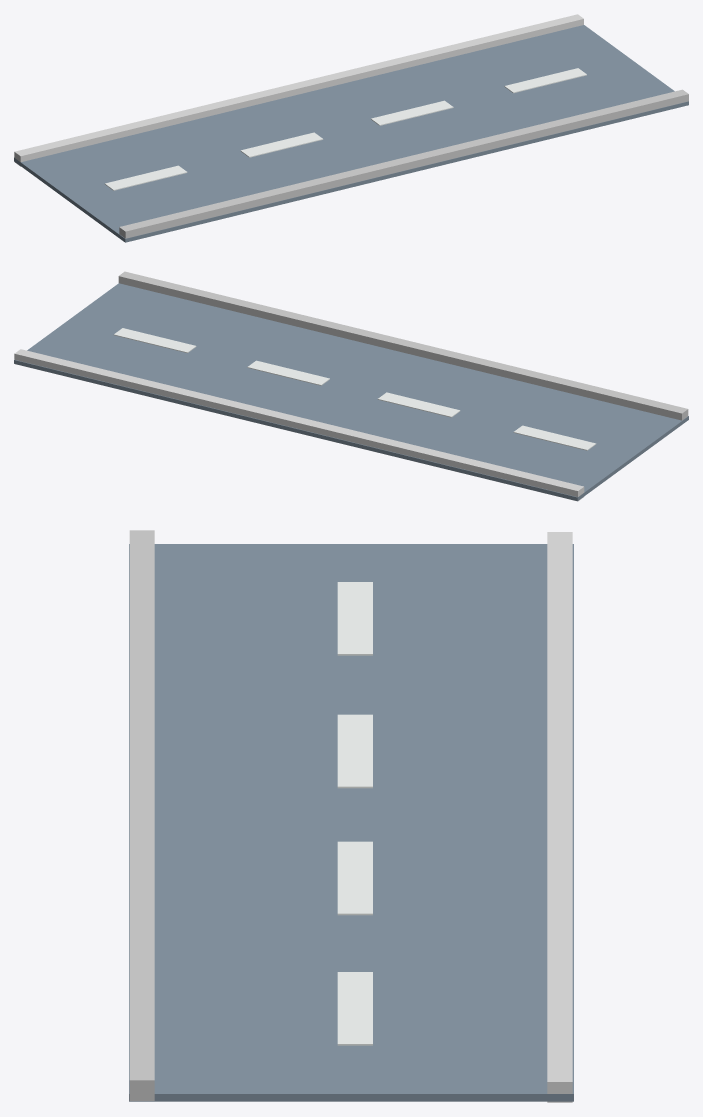
File: road.fbx
3 renders of one model, top to bottom at view 1: azimuth 30°, elevation 25°; view 2: azimuth 150°, elevation 25°; view 3: azimuth 270°, elevation 25°, orthographic. The views are drawn at different scales.
Parts seen in each view (by area): view 1: Cube, pavement 1, pavement 2, Plane; view 2: Cube, pavement 1, pavement 2, Plane; view 3: Cube, pavement 1, pavement 2, Plane.
Boxes of the visible parts, box(x1,y1,x2,y2) form: Cube: box(14, 25, 688, 242); pavement 1: box(119, 89, 688, 238); pavement 2: box(14, 14, 583, 166); Plane: box(105, 68, 586, 190); Cube: box(14, 283, 688, 501); pavement 1: box(118, 271, 688, 420); pavement 2: box(14, 349, 584, 501); Plane: box(113, 328, 596, 450); Cube: box(129, 544, 573, 1101); pavement 1: box(129, 530, 154, 1100); pavement 2: box(547, 532, 572, 1102); Plane: box(337, 582, 372, 1045).
Bounding box in the file's own units: 3714 × 71.49 × 1270.
